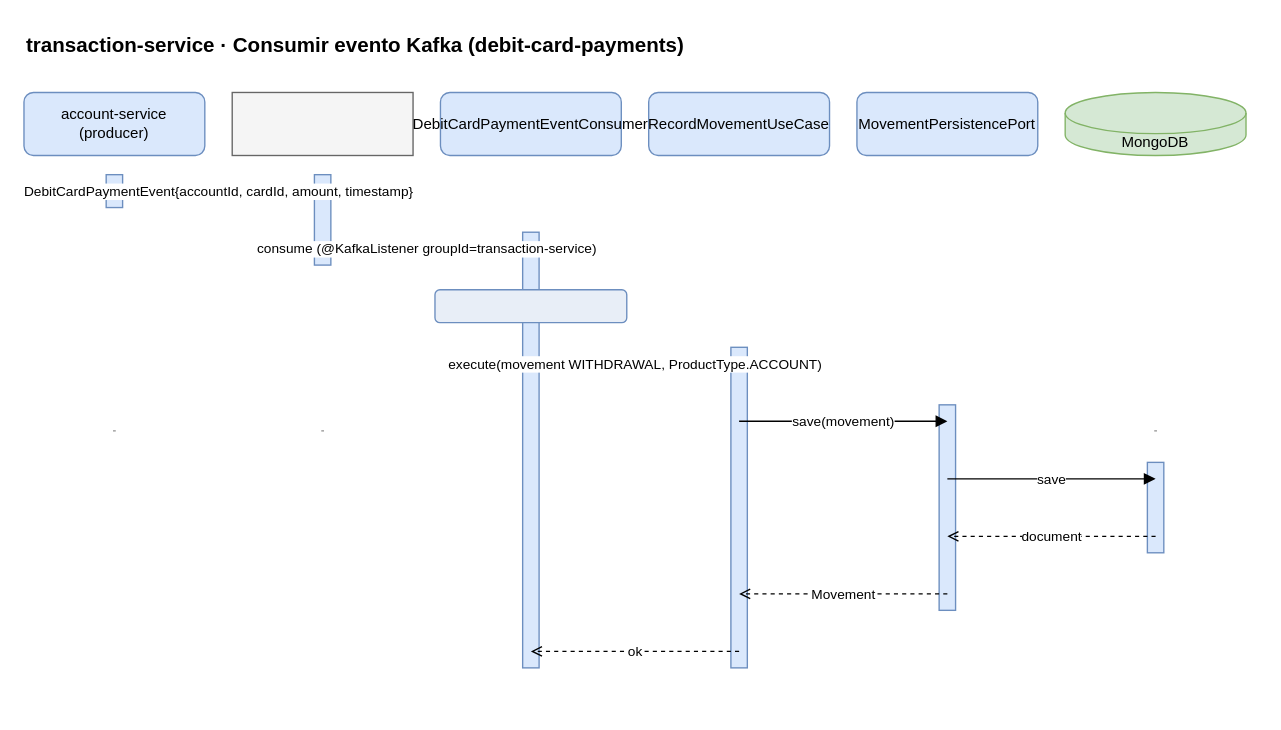
Some shapes in this 1281 by 730 pixel diagram are drawn without their labels. The centre of each missing label's shape, as x and y in pixels:
deserializa evento: point (530, 305)
Kafka (debit-card-payments): point (322, 123)
